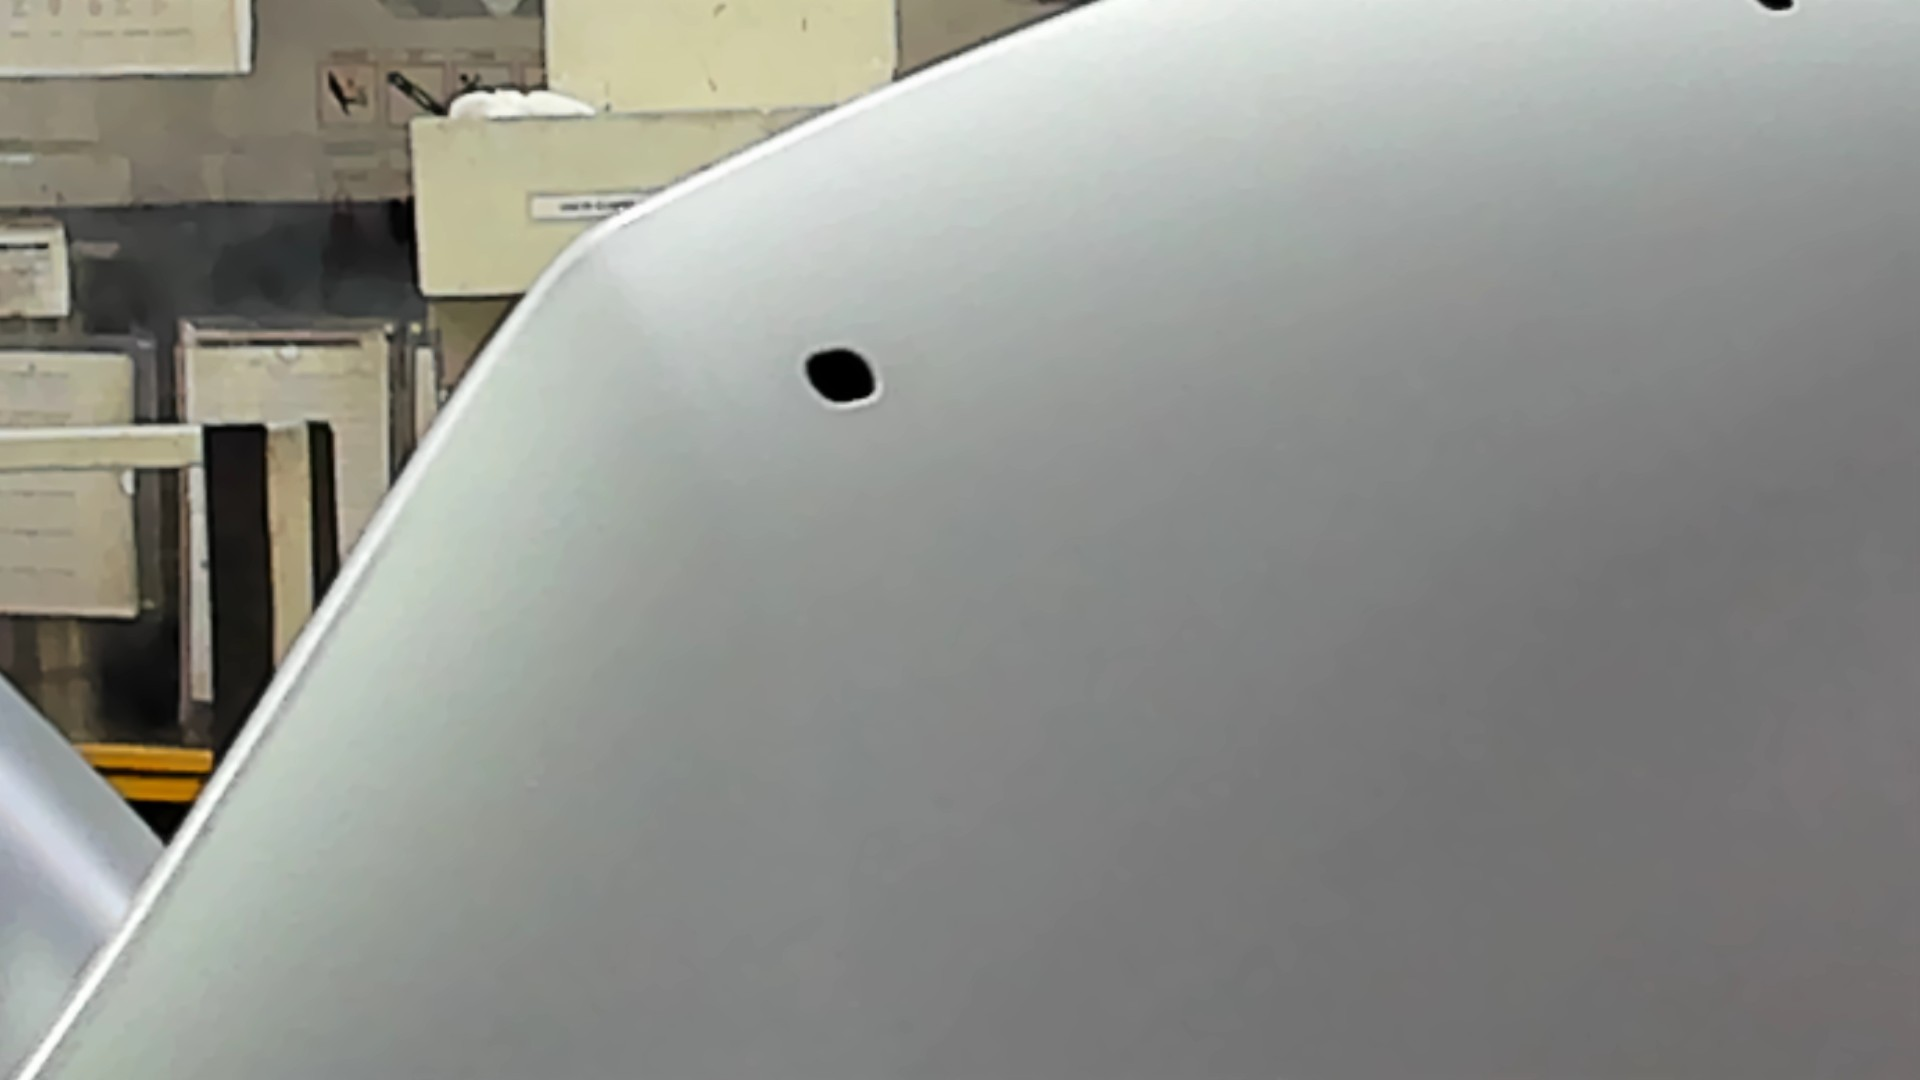amorfo: (798, 342, 886, 411), (1750, 1, 1815, 15)
